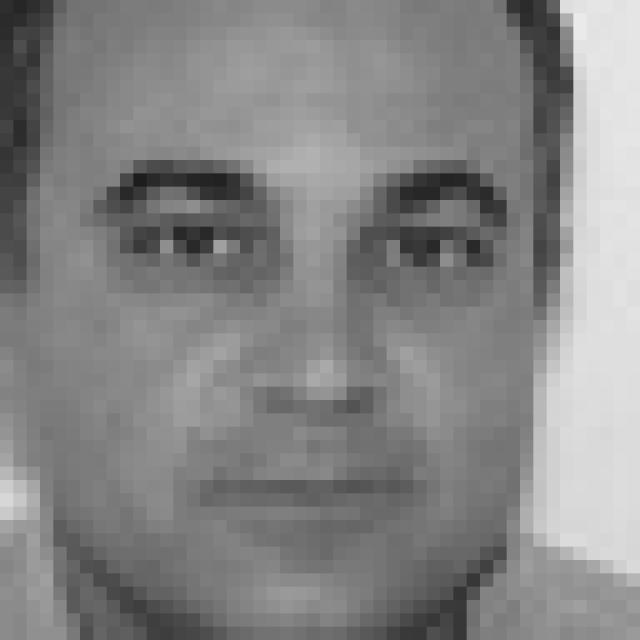neutral: (86, 155, 521, 564)
